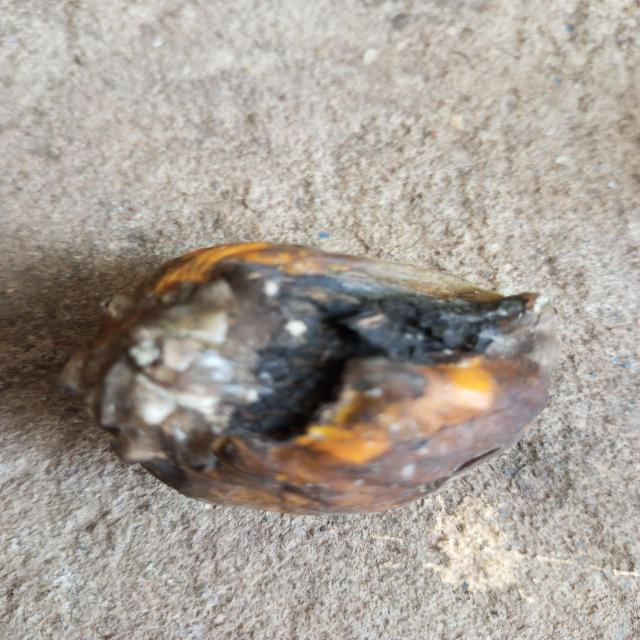damaged: (60, 242, 557, 514)
